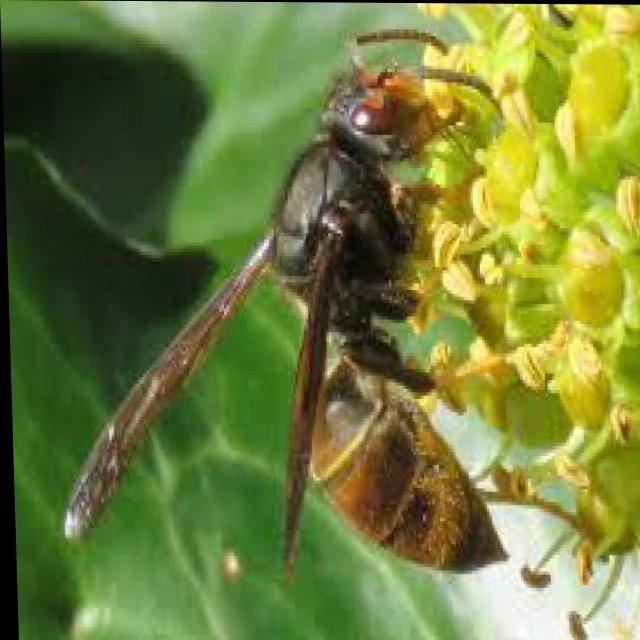Vespa Velutina: (31, 19, 518, 597)
